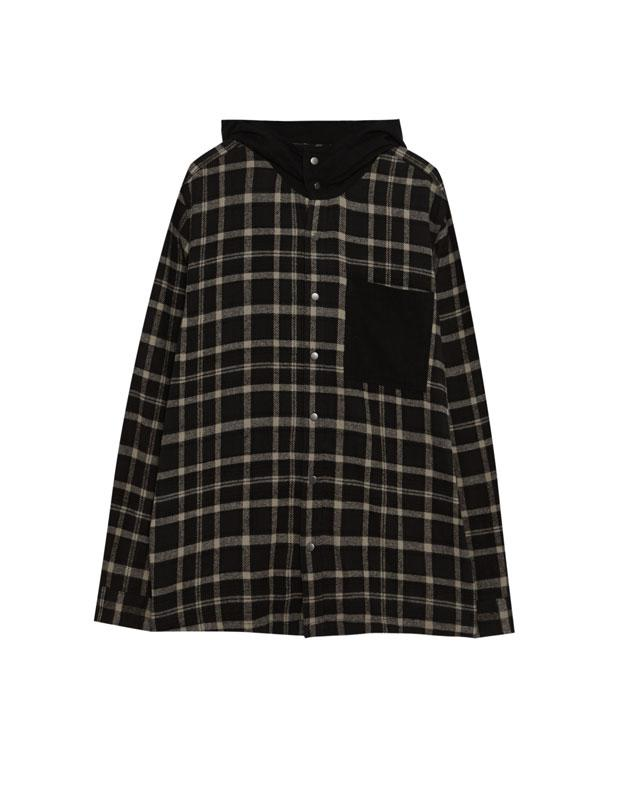teeshirt: (92, 113, 520, 645)
